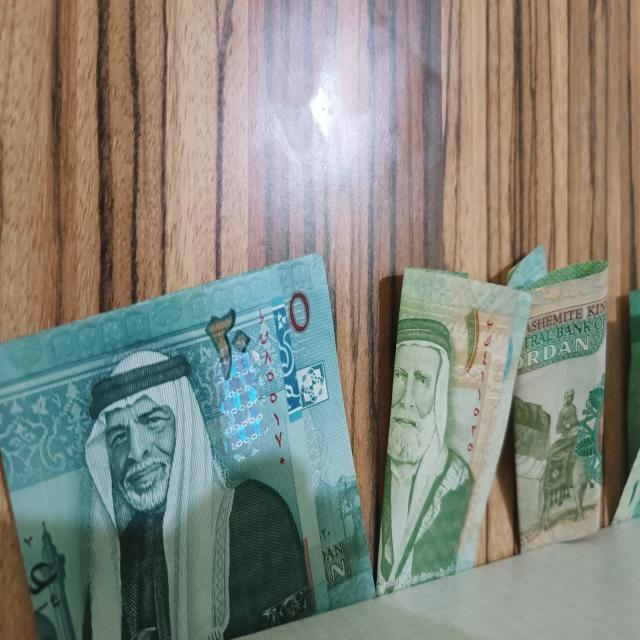1-dinar: (378, 256, 536, 596), (504, 241, 612, 552), (621, 283, 640, 524)
20-dinar: (0, 252, 363, 640)
